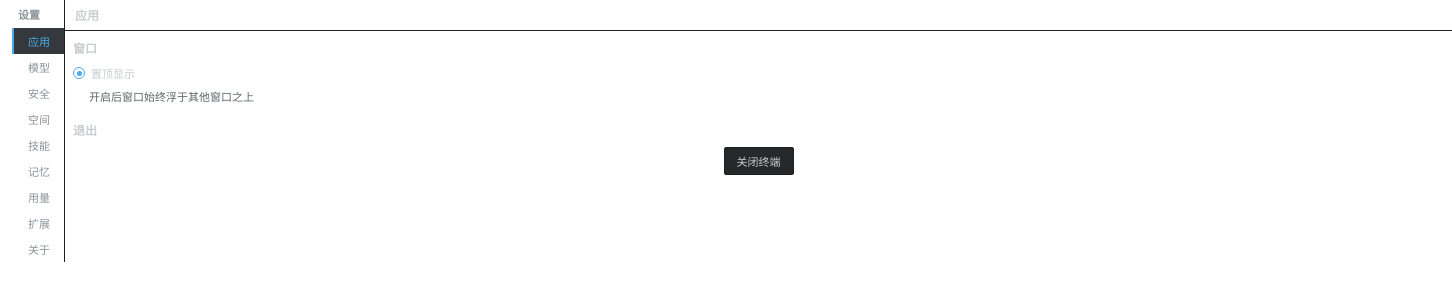
Test: SettingsPanel · 空间页（路径只读 + 目录选择 + 目录结构树） › 渲染：路径只读值 + hint + 目录结构节（树 + 搜索框 + 根一层拉起）
The width and height of the screenshot is (1452, 308).
Click the tab "空间": (38, 119) top-left (12, 106), bottom-right (64, 132)
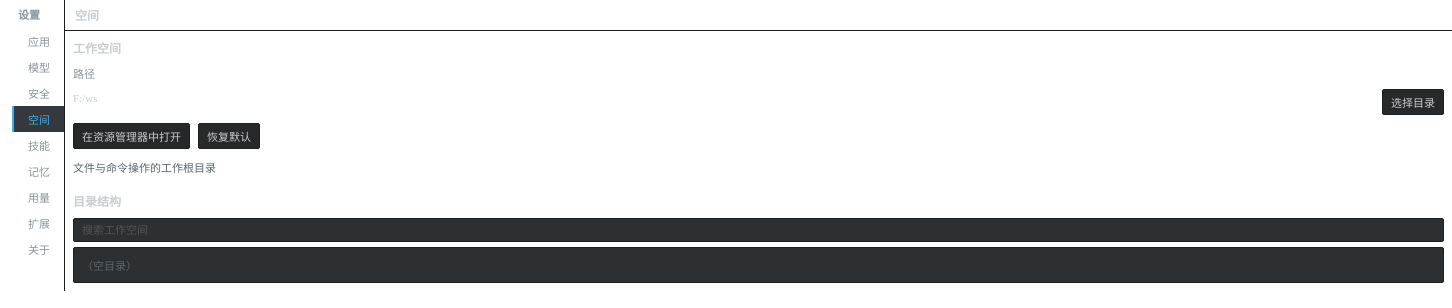
expect the text "工作空间" is shown: met, box top-left (73, 42), bottom-right (121, 56)
expect the text "F:/ws" is shown: met, box top-left (73, 92), bottom-right (98, 104)
expect the text "工作根目录" is shown: met, box top-left (73, 162), bottom-right (216, 174)
